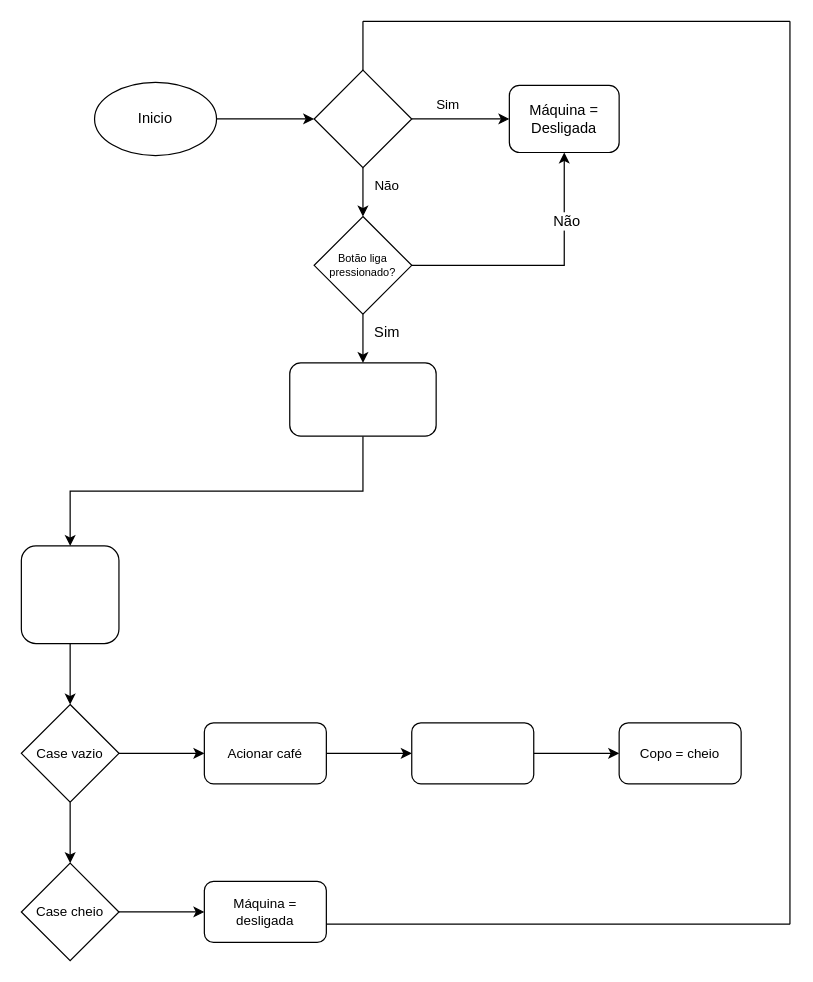
This 813x982 diagram has some shape labels left out. The centre of each missing label's shape, as x and y in pixels:
Botão desliga pressionado?: point 362,118
Esperar 5 seg.: point 472,753
Máquina = Ligada: point 362,399
Switch copo: point 69,594
